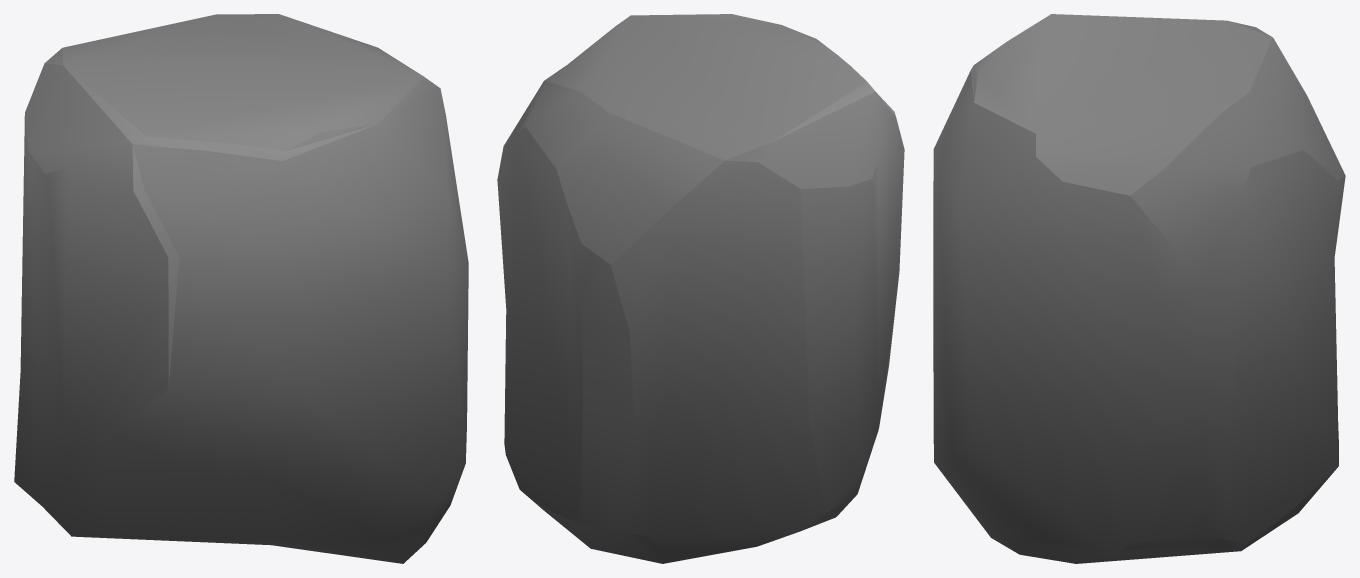
File: rocks_006.glb
3 views of the same model, side by side, from view 1: azimuth 30°, elevation 25°; view 2: azimuth 150°, elevation 25°; view 3: azimuth 270°, elevation 25° (orthographic). The views are drawn at different scales.
Parts seen in each view (by area): view 1: rocks.006; view 2: rocks.006; view 3: rocks.006.
Part boxes in pixels (x1,y1,x2,y2): rocks.006: (14,14,468,563); rocks.006: (497,14,904,563); rocks.006: (933,14,1345,563).
Bounding box in the file's own units: 0.4283 × 0.4821 × 0.4245.
Materials: 1 (1 with a texture image).
